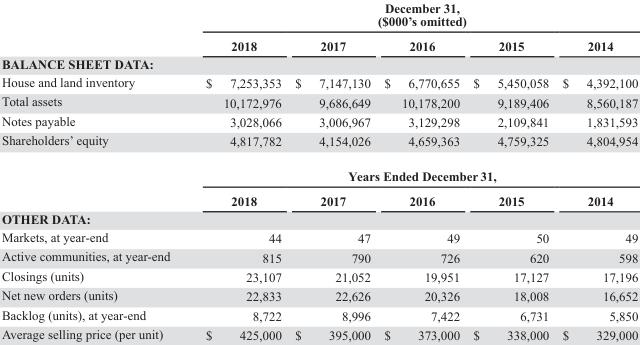table: (0, 0, 637, 341)
table column: (0, 0, 187, 341), (187, 0, 287, 341), (287, 0, 376, 341), (376, 0, 465, 341), (465, 0, 554, 341), (554, 0, 637, 341)
table column header: (0, 0, 637, 54)
table projected row header: (0, 54, 637, 72), (0, 209, 637, 227)
table row: (0, 0, 637, 33), (0, 158, 637, 188), (0, 130, 637, 158), (0, 33, 637, 54), (0, 188, 637, 209), (0, 91, 637, 111), (0, 246, 637, 266), (0, 285, 637, 305), (0, 72, 637, 91), (0, 111, 637, 130), (0, 227, 637, 246), (0, 266, 637, 285), (0, 305, 637, 324), (0, 54, 637, 72), (0, 209, 637, 227), (0, 324, 637, 341)
table spanning cell: (187, 0, 637, 33), (187, 158, 637, 188)
